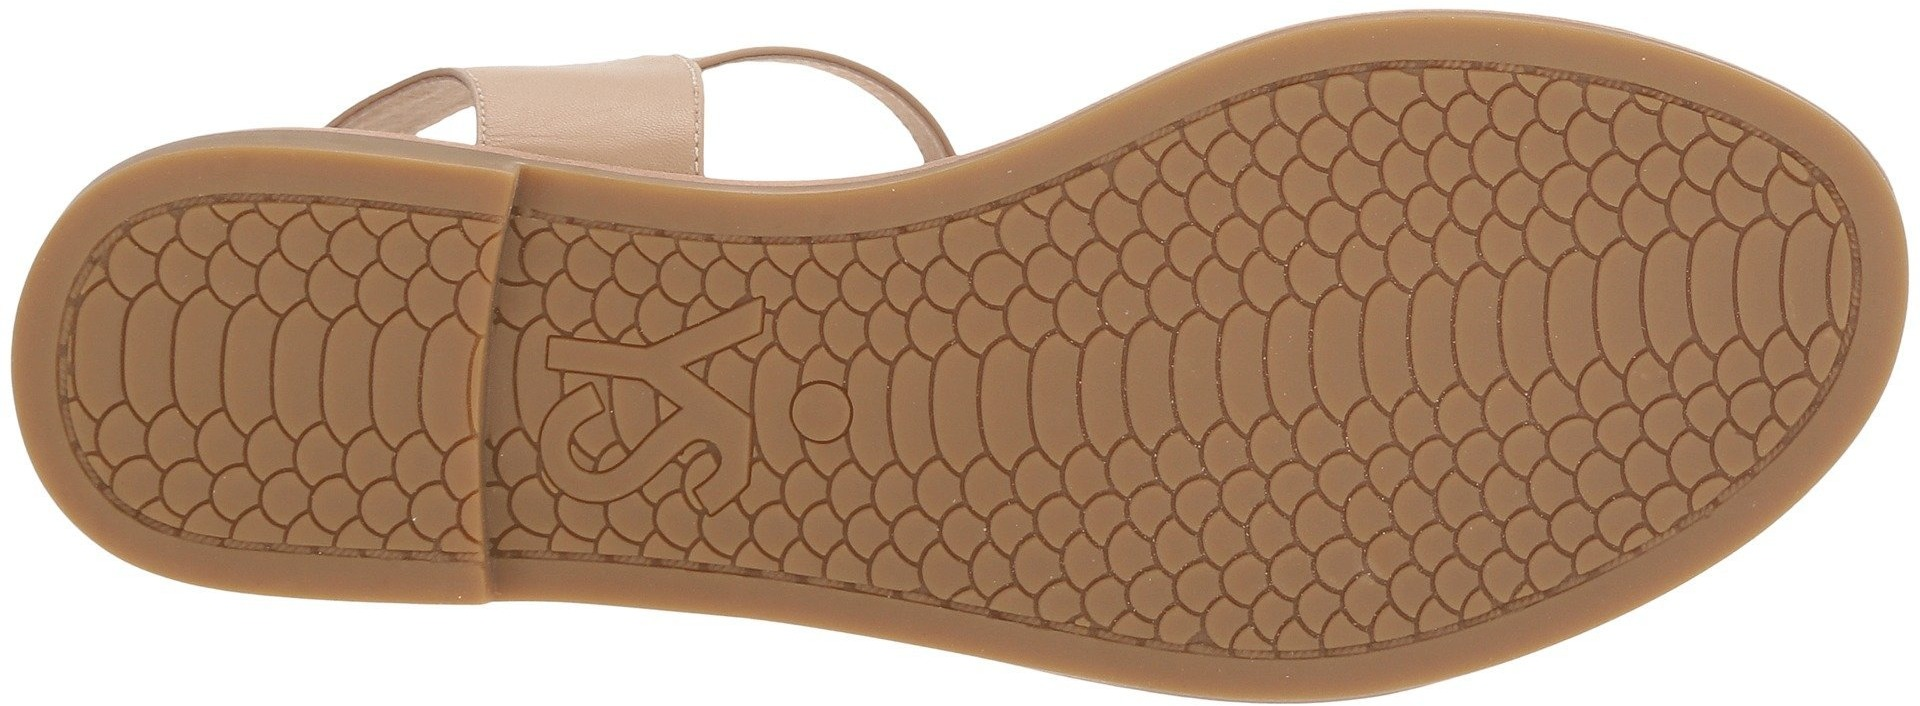circle: (1089, 427, 1311, 652), (1326, 393, 1531, 597), (276, 385, 474, 556), (888, 436, 1071, 601), (1102, 166, 1275, 325), (782, 372, 864, 451)
line: (782, 372, 864, 451)
other: (520, 280, 778, 538), (1303, 64, 1499, 264), (280, 202, 479, 378), (1507, 99, 1687, 274), (1544, 350, 1723, 511)
quad: (97, 274, 280, 455)
ribbon: (1782, 225, 1896, 338)
text: (520, 280, 778, 538)
